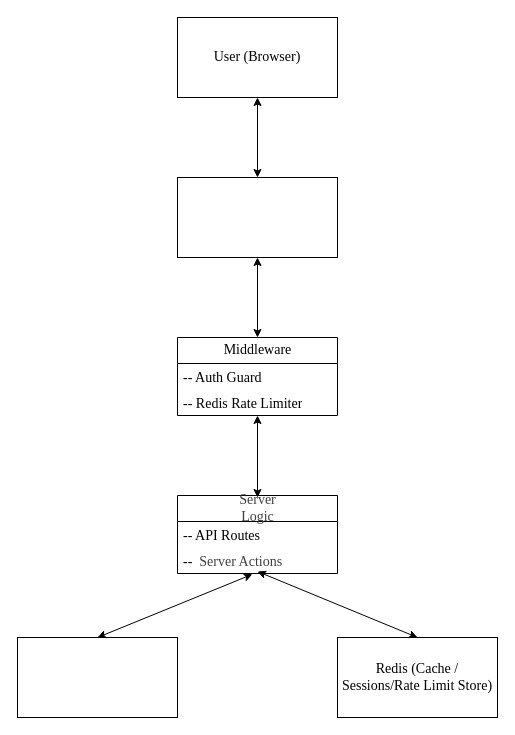
Image size: 515x735. Some labels were removed from this diagram. Here are the shapes that lost their labels. From the top down, the centre of each, then its label:
At point (257, 217): "Frontend (Next.js App Router)".
At point (97, 677): "MongoDB (Main Database)".
